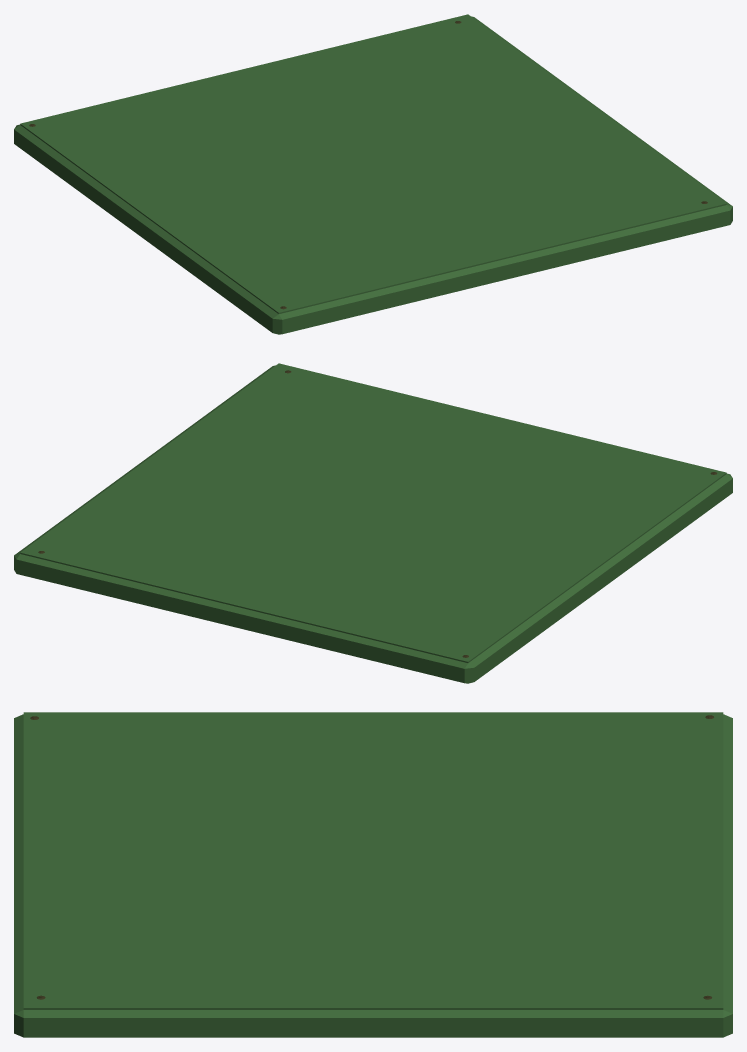
File: platform.fbx
3 views of the same model, one above another, from view 1: azimuth 30°, elevation 25°; view 2: azimuth 150°, elevation 25°; view 3: azimuth 270°, elevation 25° (orthographic). The views are drawn at different scales.
Parts seen in each view (by area): view 1: platform_low; view 2: platform_low; view 3: platform_low.
Boxes of the visible parts, x1=… form: platform_low: x1=14, y1=14, x2=732, y2=334; platform_low: x1=14, y1=363, x2=732, y2=683; platform_low: x1=14, y1=712, x2=732, y2=1037.
Size of the model in its own units: 61.06 by 9.81 by 61.06.
